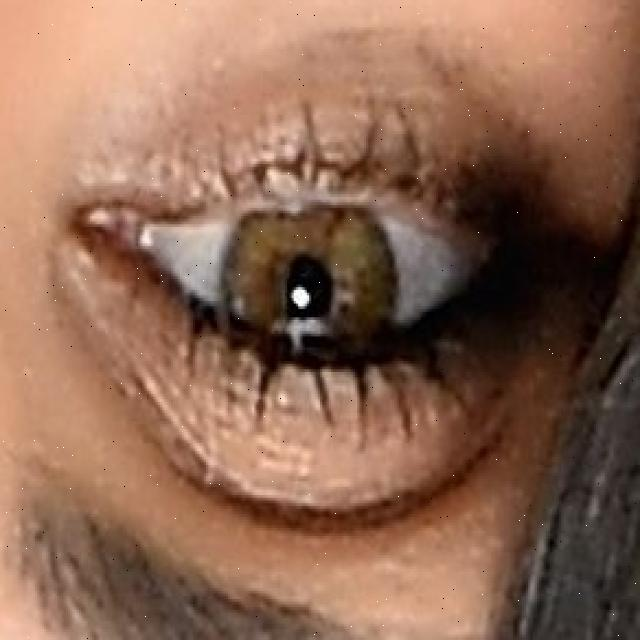Normal: (222, 188, 396, 386)
